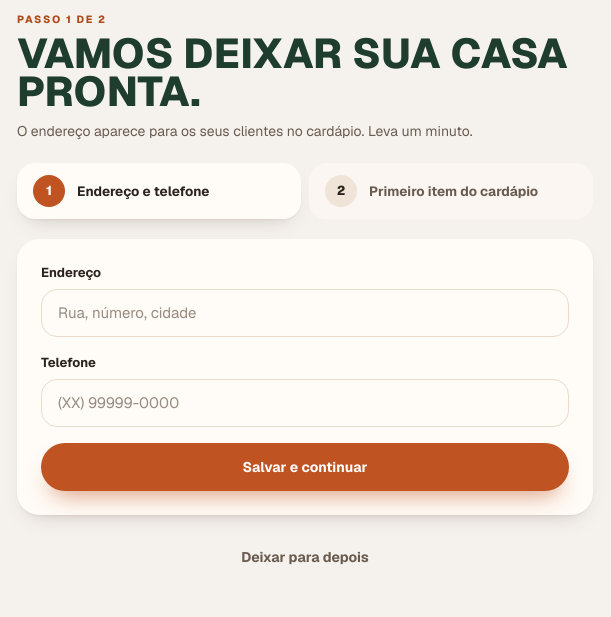
it: Comecar › mostra o erro quando o servidor recusa
This screenshot has width=611, height=617.
Type "x" into the field labelled "Endereço".
click(305, 313); type("x")  # box x1=41 y1=288 x2=569 y2=337
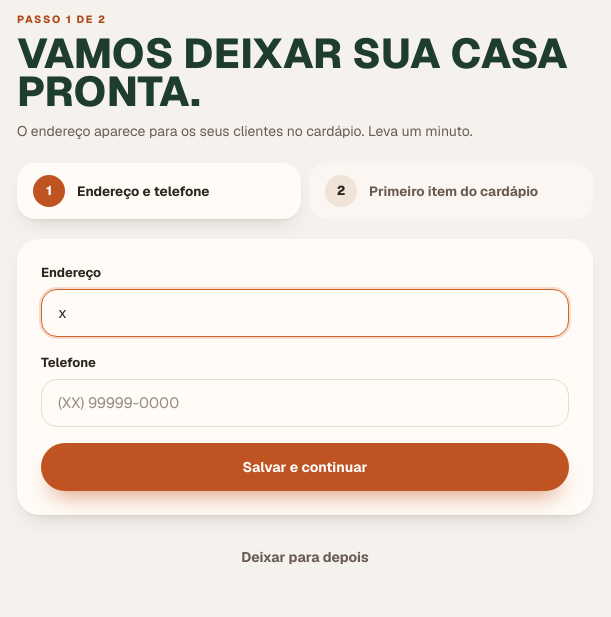
Click the button "Salvar e continuar".
click(305, 467)  # box x1=41 y1=443 x2=569 y2=491
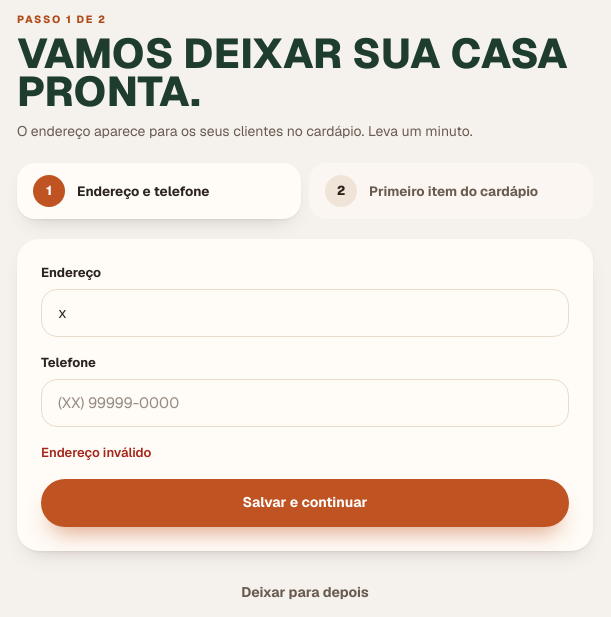
Expected: the text "Endereço inválido" is shown, x1=41 y1=444 x2=151 y2=461
